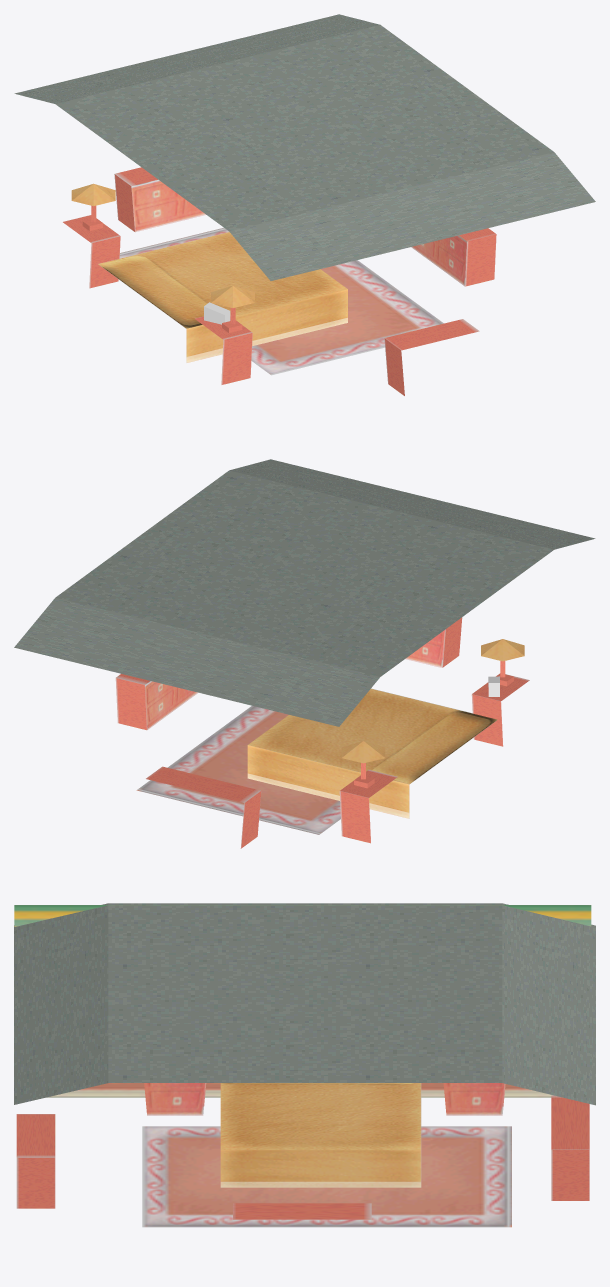
File: MBEDROOM1.glb
3 views of the same model, one above another, from view 1: azimuth 30°, elevation 25°; view 2: azimuth 150°, elevation 25°; view 3: azimuth 270°, elevation 25° (orthographic). The views are drawn at different scales.
Parts seen in each view (by area): view 1: MBEDROOM1; view 2: MBEDROOM1; view 3: MBEDROOM1.
Part boxes in pixels (x1,y1,x2,y2): MBEDROOM1: (14, 14, 595, 395); MBEDROOM1: (14, 459, 595, 848); MBEDROOM1: (14, 903, 595, 1227).
Bounding box in the file's own units: 1323 × 623 × 1706.
3 materials, 3 textured.
